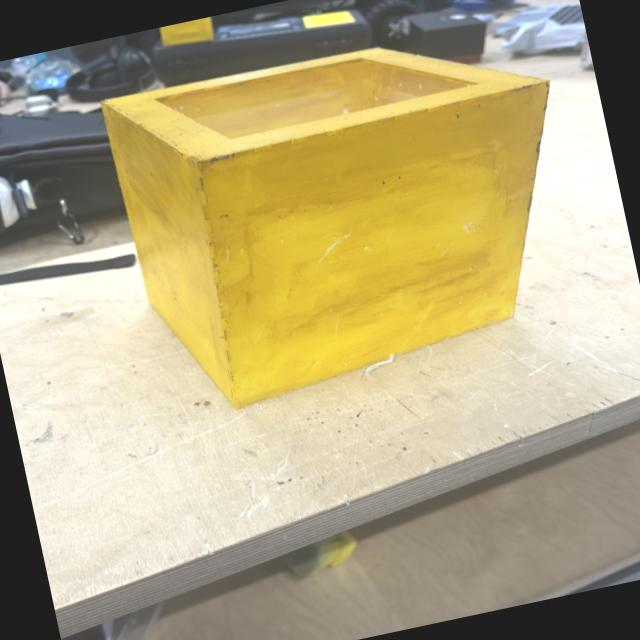yellow_bin: (97, 7, 603, 420)
